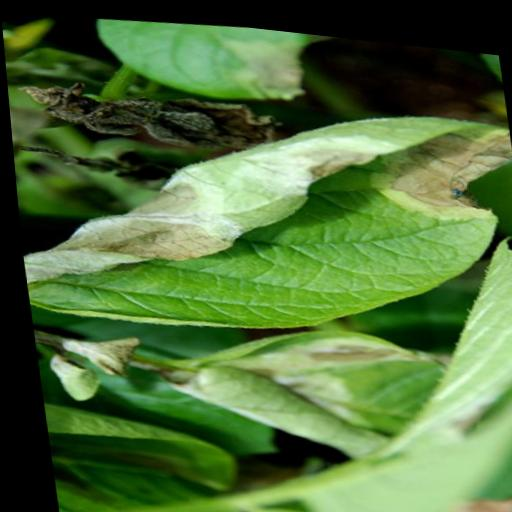Late Blight: (4, 59, 512, 365)
